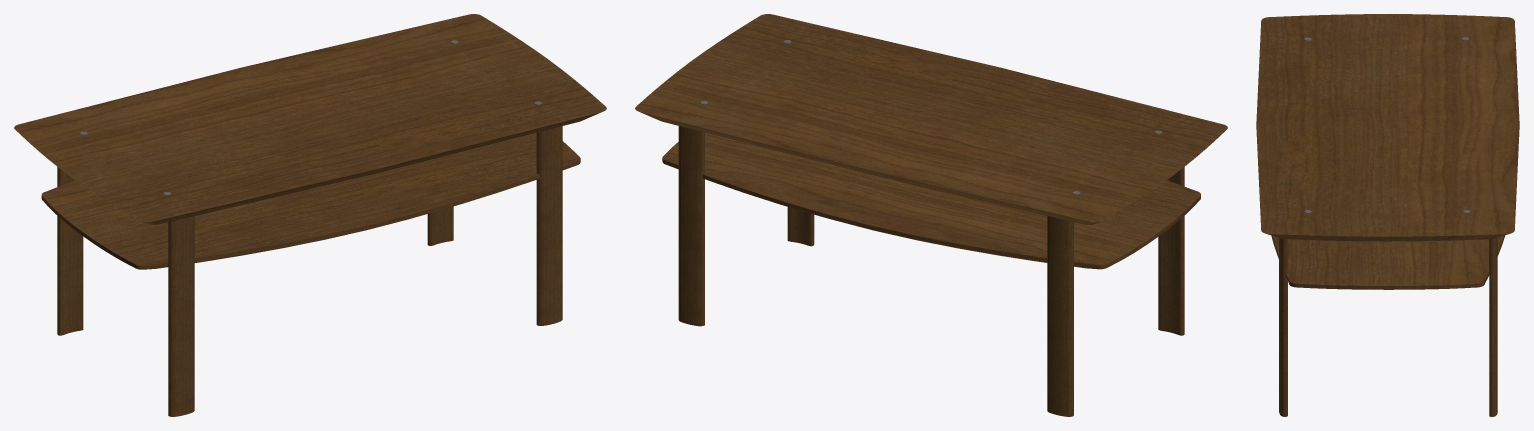
File: desk.obj
The picture shows the model from 3 angles, left to right: view 1: azimuth 30°, elevation 25°; view 2: azimuth 150°, elevation 25°; view 3: azimuth 270°, elevation 25°; orthographic projection. The views are drawn at different scales.
Bounding box in the file's own units: 3.33 × 1.4 × 1.67.
2 materials, 1 textured.
